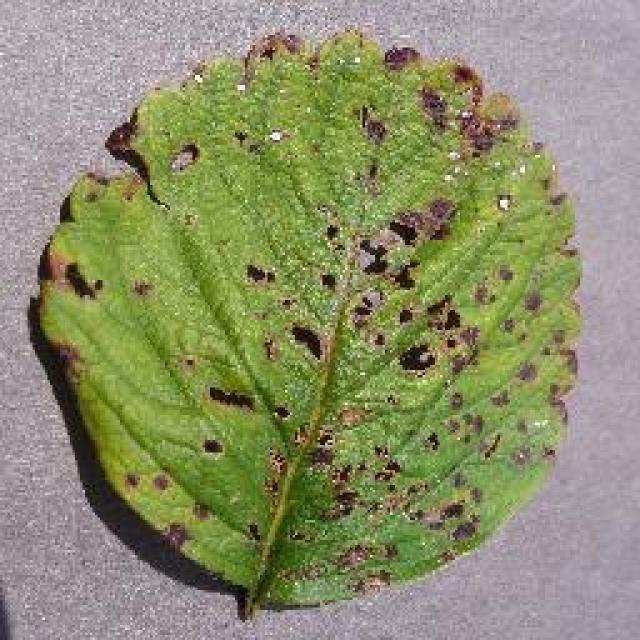Strawberry leaf scorch: (105, 40, 502, 585)
